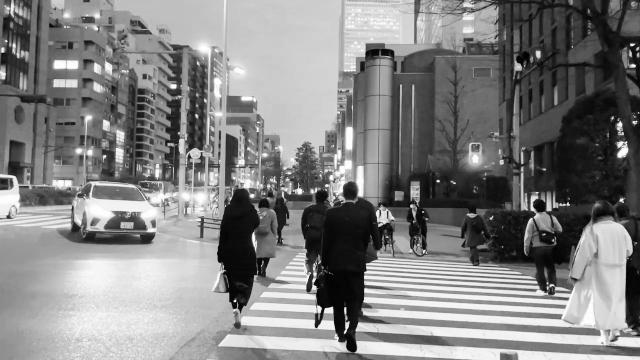berjalan: (567, 192, 633, 360), (326, 176, 376, 356), (218, 179, 258, 327), (518, 198, 562, 296)
